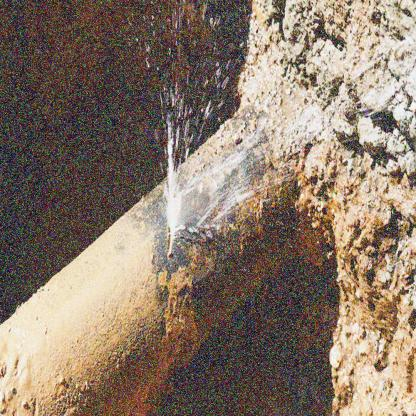burst: (150, 207, 205, 274)
